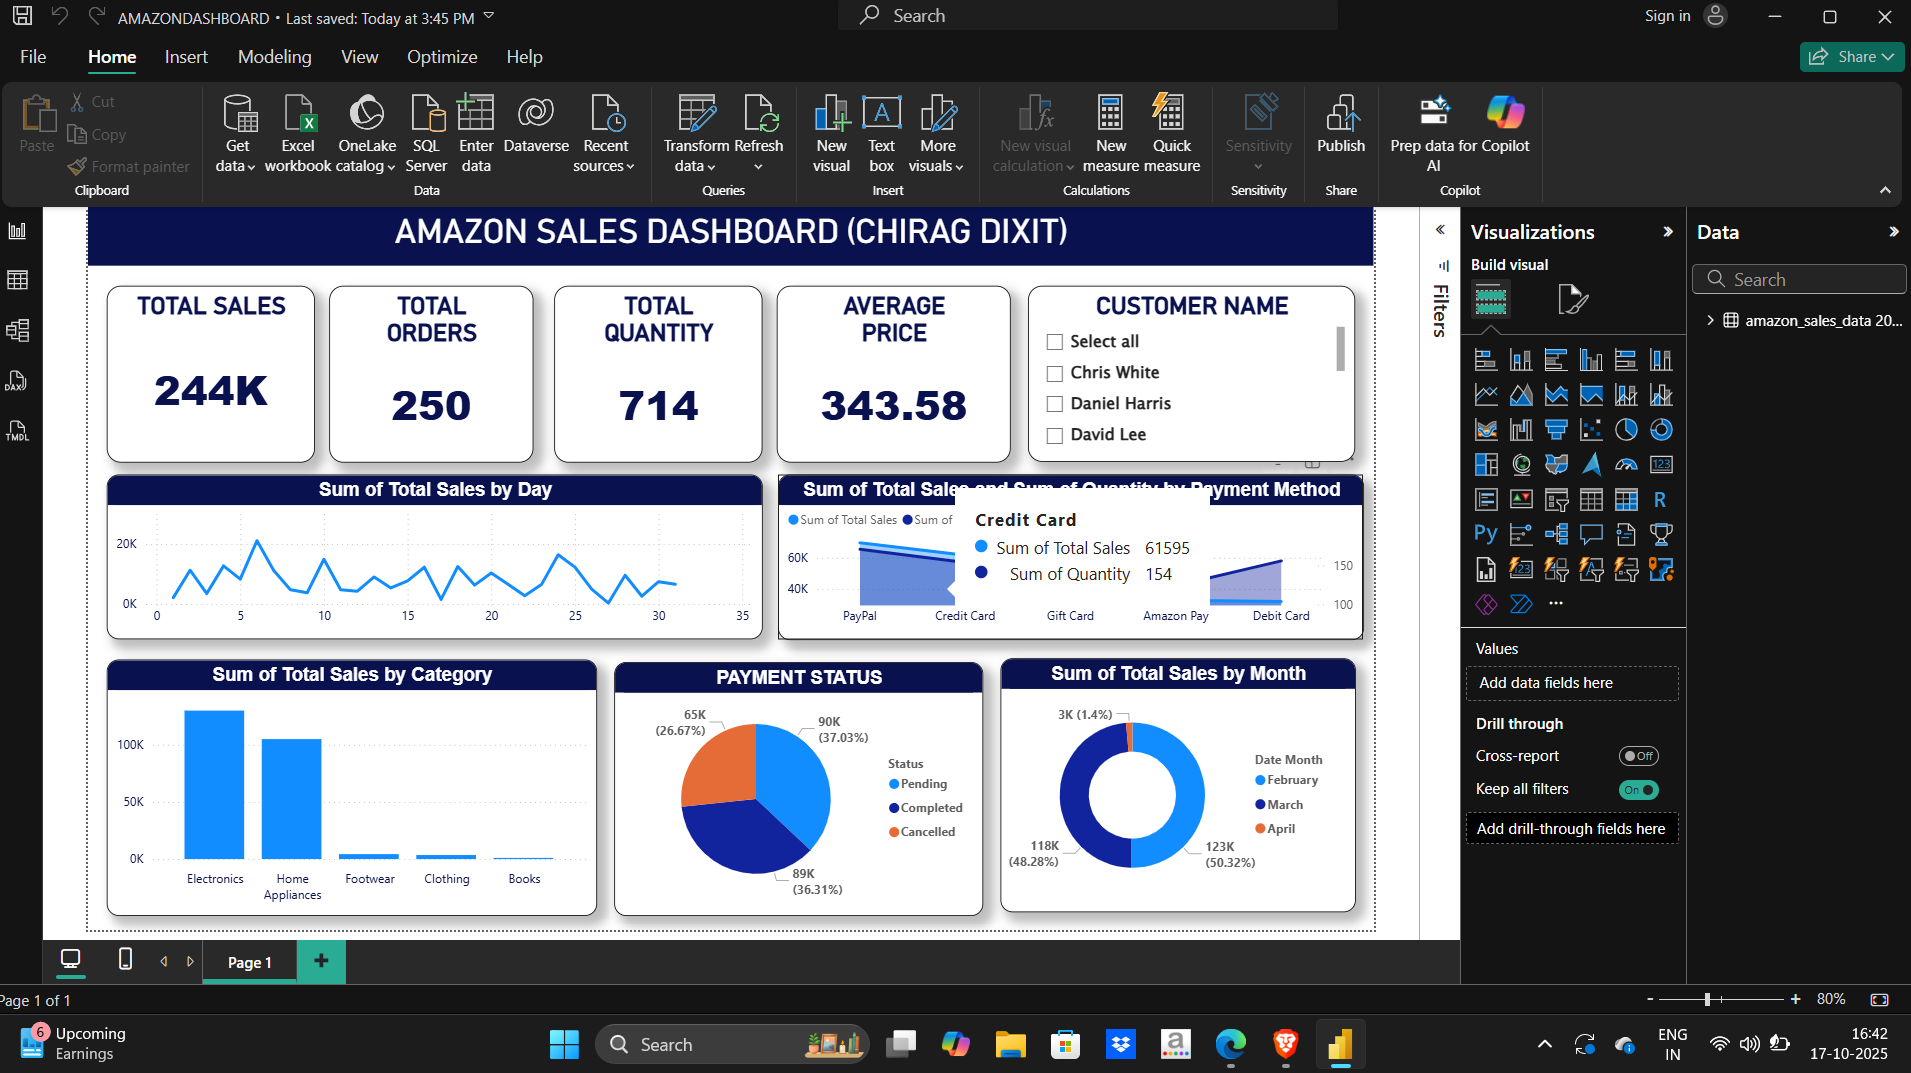

This screenshot's page, from the dashboard's own definition file:
{"tool":"powerbi","page":{"name":"Page 1","canvas":[1280,720],"ordinal":0},"visuals":[{"type":"textbox","box":[0,0,1279.2,58.5],"z":0},{"type":"card","title":"TOTAL SALES","fields":{"Values":["Sum(amazon_sales_data 2025.Total Sales)"]},"box":[18.6,78.6,207.1,175.7],"z":1000},{"type":"card","title":"TOTAL ORDERS","fields":{"Values":["Count(amazon_sales_data 2025.Order ID)"]},"box":[240,78.6,202.9,175.7],"z":2000},{"type":"card","title":"TOTAL QUANTITY","fields":{"Values":["Sum(amazon_sales_data 2025.Quantity)"]},"box":[464.3,78.6,207.1,175.7],"z":3000},{"type":"pieChart","title":"PAYMENT STATUS","fields":{"Category":["amazon_sales_data 2025.Status"],"Y":["Sum(amazon_sales_data 2025.Total Sales)"]},"box":[523.7,452.8,367,252.5],"z":4000},{"type":"columnChart","fields":{"Y":["Sum(amazon_sales_data 2025.Total Sales)"],"Category":["amazon_sales_data 2025.Category"]},"box":[18.7,450.3,487.6,255],"z":5000},{"type":"lineChart","fields":{"Category":["amazon_sales_data 2025.Date.Variation.Date Hierarchy.Day"],"Y":["Sum(amazon_sales_data 2025.Total Sales)"]},"box":[18.6,265.7,652.9,164.3],"z":6000},{"type":"card","title":"AVERAGE PRICE","fields":{"Values":["Avg(amazon_sales_data 2025.Price)"]},"box":[685.7,78.6,232.9,175.7],"z":7000},{"type":"areaChart","fields":{"Category":["amazon_sales_data 2025.Payment Method"],"Y":["Sum(amazon_sales_data 2025.Total Sales)"],"Y2":["Sum(amazon_sales_data 2025.Quantity)"]},"box":[686.1,266.2,583.2,164.7],"z":8000},{"type":"donutChart","fields":{"Y":["Sum(amazon_sales_data 2025.Total Sales)"],"Category":["amazon_sales_data 2025.Date.Variation.Date Hierarchy.Month"]},"box":[908.1,449.1,353.3,252.5],"z":8001},{"type":"slicer","title":"CUSTOMER NAME","fields":{"Values":["amazon_sales_data 2025.Customer Name"]},"box":[935.5,78.4,325.9,175.4],"z":8002}]}

Visuals, with their boxes on the page's 1280x720 design canvas (x1, y1, x2, y2). These are canvas units, not pixel positions in the 1911x1073 screenshot, which may show the page scaled, cropped or inside an application window:
textbox: [x1=0, y1=0, x2=1279, y2=58]
"TOTAL SALES" card: [x1=19, y1=79, x2=226, y2=254]
"TOTAL ORDERS" card: [x1=240, y1=79, x2=443, y2=254]
"TOTAL QUANTITY" card: [x1=464, y1=79, x2=671, y2=254]
"PAYMENT STATUS" pieChart: [x1=524, y1=453, x2=891, y2=705]
columnChart - Sum(amazon_sales_data 2025.Total Sales) x amazon_sales_data 2025.Category: [x1=19, y1=450, x2=506, y2=705]
lineChart - amazon_sales_data 2025.Date.Variation.Date Hierarchy.Day x Sum(amazon_sales_data 2025.Total Sales): [x1=19, y1=266, x2=672, y2=430]
"AVERAGE PRICE" card: [x1=686, y1=79, x2=919, y2=254]
areaChart - amazon_sales_data 2025.Payment Method x Sum(amazon_sales_data 2025.Total Sales): [x1=686, y1=266, x2=1269, y2=431]
donutChart - Sum(amazon_sales_data 2025.Total Sales) x amazon_sales_data 2025.Date.Variation.Date Hierarchy.Month: [x1=908, y1=449, x2=1261, y2=702]
"CUSTOMER NAME" slicer: [x1=936, y1=78, x2=1261, y2=254]
